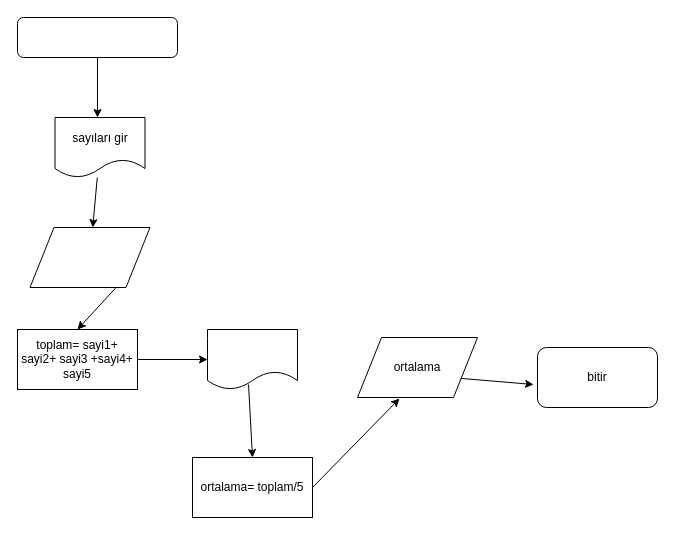
The diagram is 675 pixels wide and 535 high, and some of its shapes have lost their labels. Each missing label, with the box of its shape:
başla: (16, 16, 178, 58)
sayi1,sayi2, sayi3,sayi4, sayi5: (29, 226, 150, 288)
toplam: (206, 328, 298, 390)
